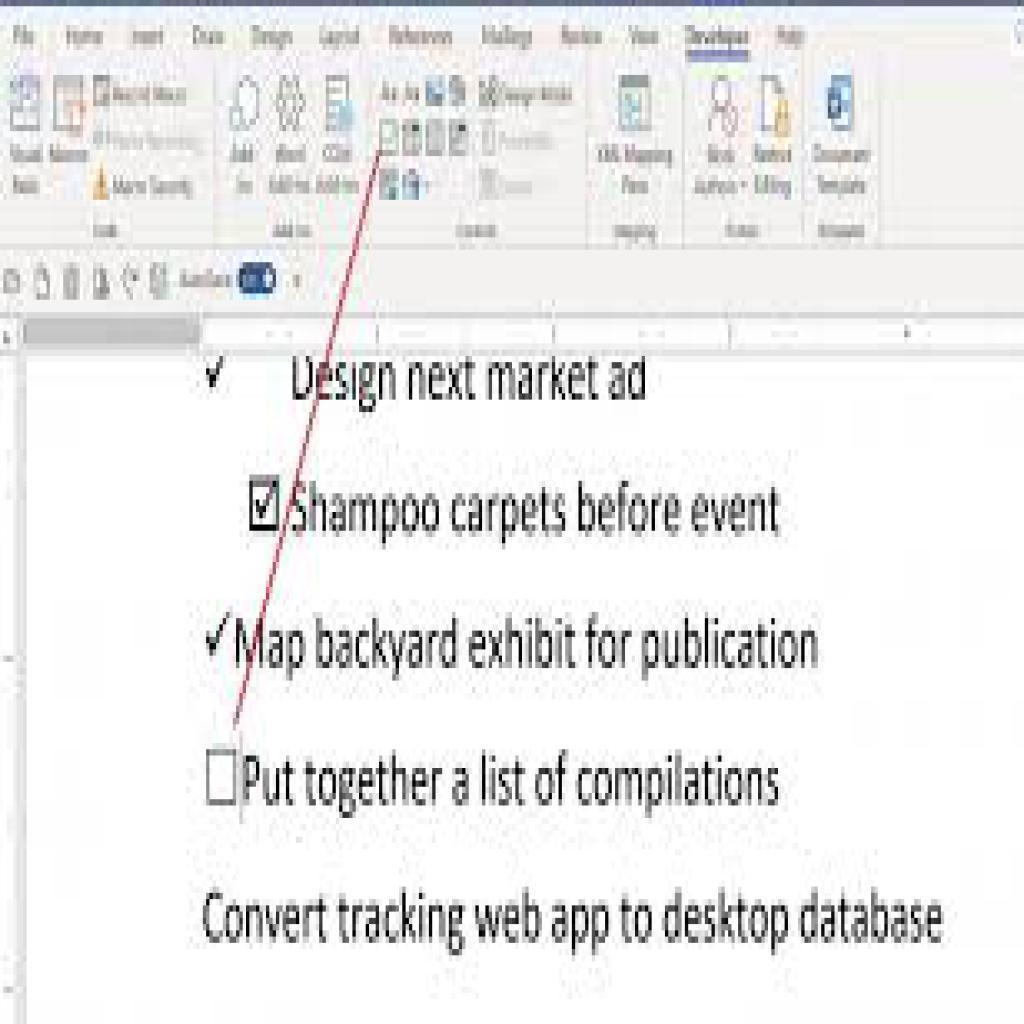checkbox: (205, 749, 235, 808), (249, 474, 278, 530)
label: (287, 476, 787, 548), (241, 753, 785, 816)
